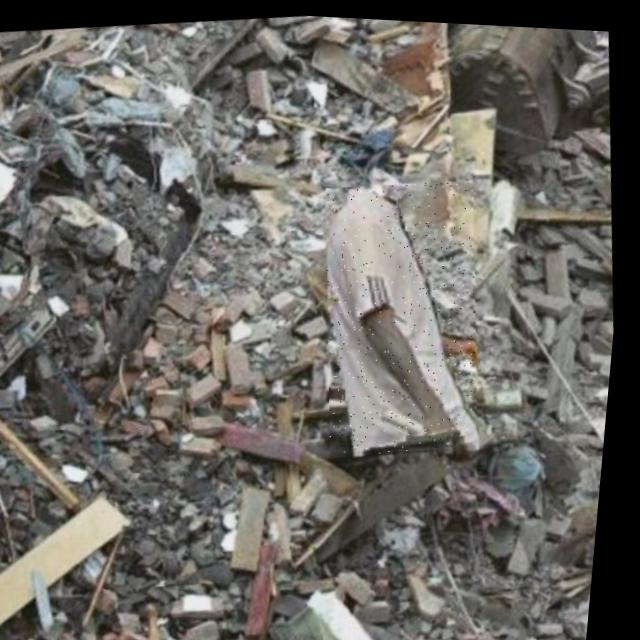Person in Rubble: (310, 169, 504, 458)
